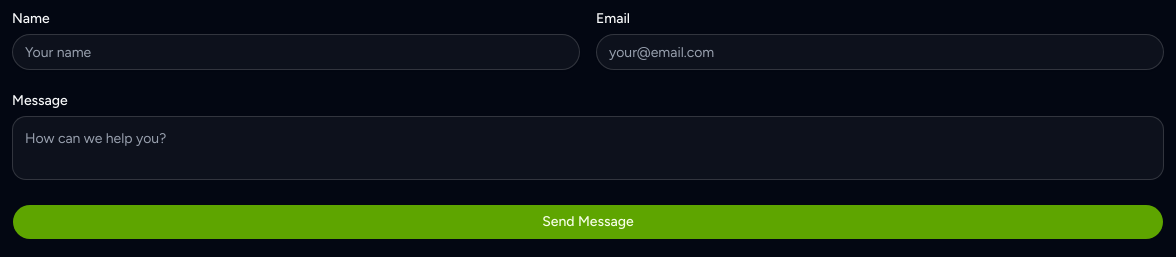
it: ContactForm › submits successfully with valid data
Type "John Doe" into the field labelled "Name" at (296, 52), box [12, 34, 580, 70]
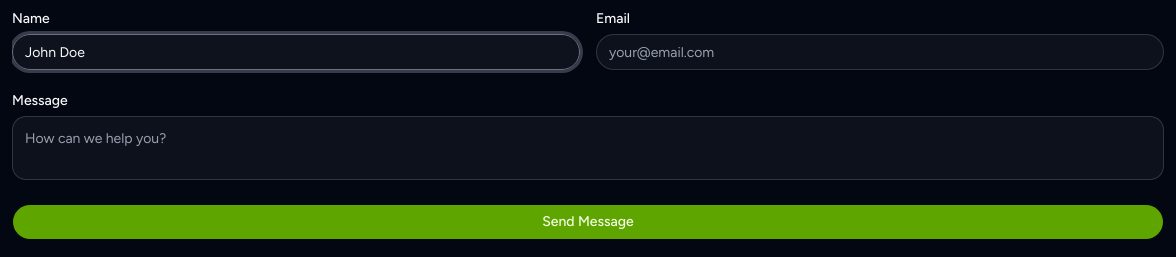
Type "john@example.com" into the field labelled "Email" at (880, 52), box [596, 34, 1164, 70]
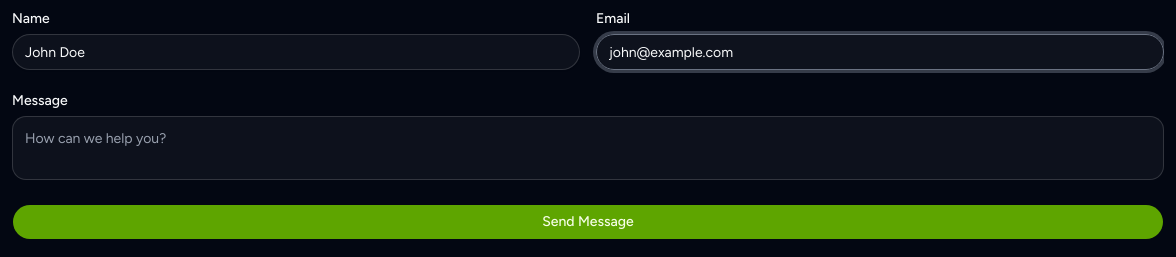
Type "This is a valid message with enough content to pass validation." into the text box labelled "Message" at (588, 148), box [12, 116, 1164, 180]
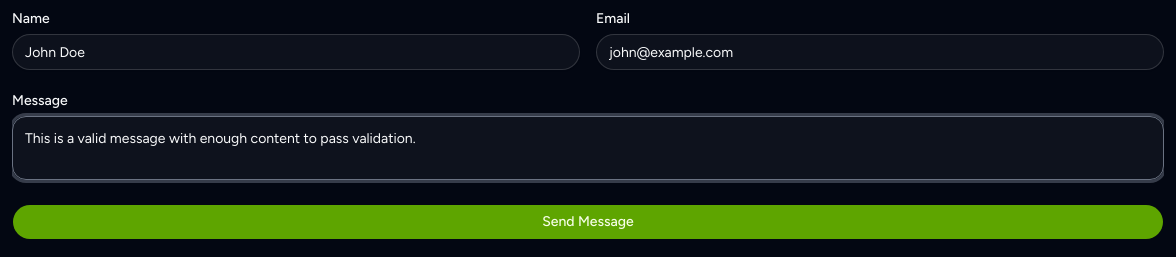
Click the button "Send Message" at (588, 222), box [12, 204, 1164, 240]
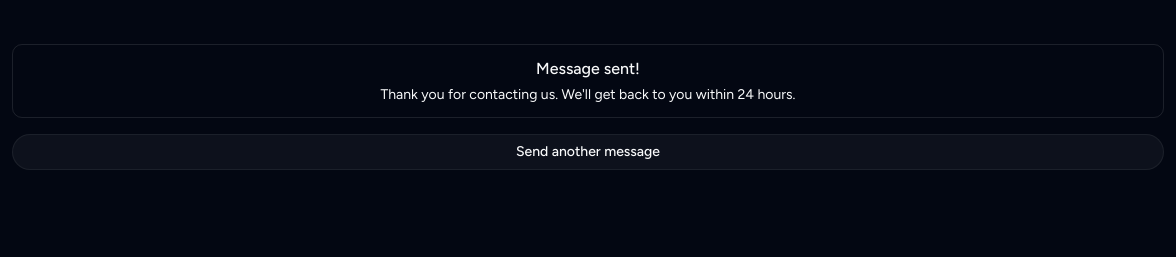
Expected: the heading "Message sent!" is shown, [536, 59, 640, 78]
Expected: the text "Thank you for contacting us. We'll get back to you within 24 hours." is shown, [381, 86, 795, 103]
